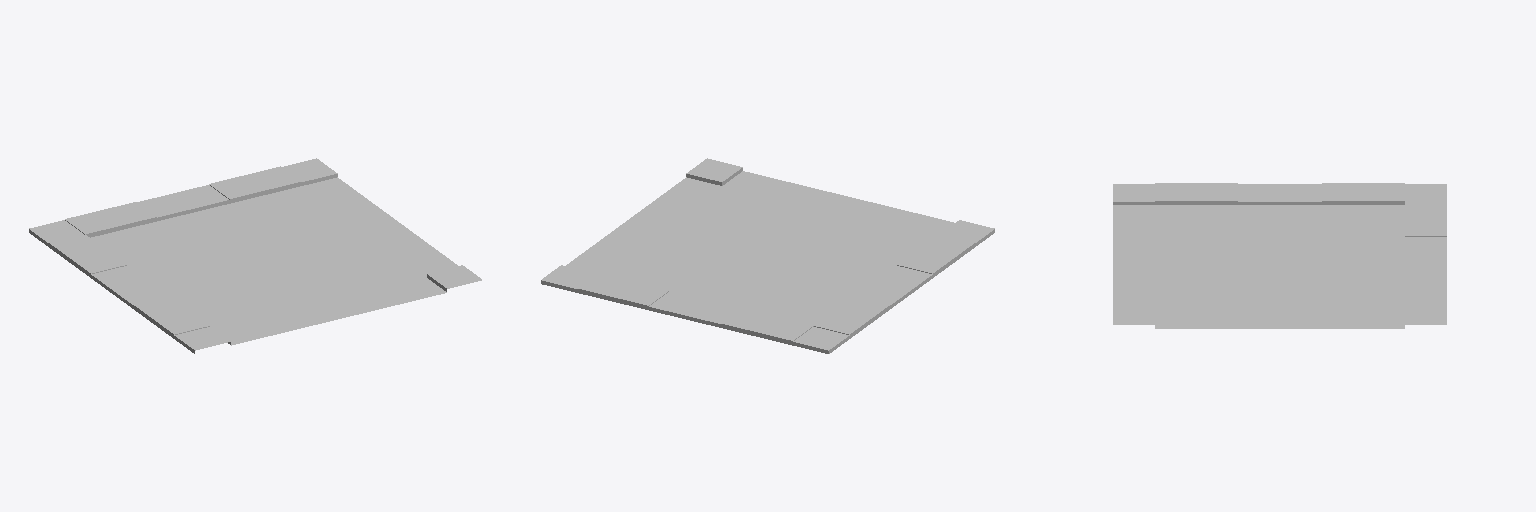
Rendered from Street_Turn.obj.
The picture shows the model from 3 angles: view 1: azimuth 30°, elevation 25°; view 2: azimuth 150°, elevation 25°; view 3: azimuth 270°, elevation 25°; orthographic projection.
Visible parts, largest first — view 1: Street_Turn_Cube.041; view 2: Street_Turn_Cube.041; view 3: Street_Turn_Cube.041.
Boxes of the visible parts, x1=… form: Street_Turn_Cube.041: x1=29, y1=158, x2=481, y2=353; Street_Turn_Cube.041: x1=541, y1=158, x2=994, y2=353; Street_Turn_Cube.041: x1=1113, y1=183, x2=1446, y2=328.
Bounding box in the file's own units: 8 × 0.12 × 8.